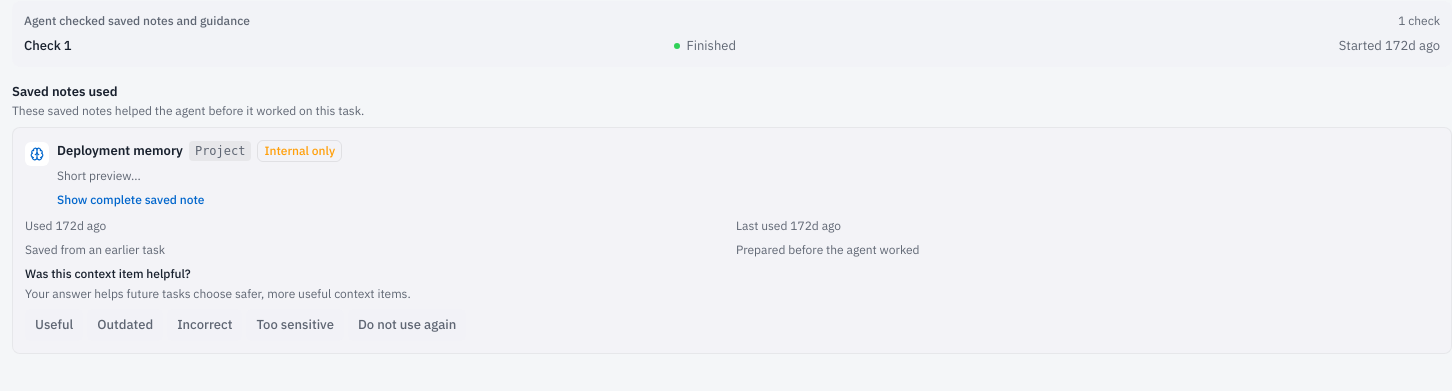
ContextTab › shows a beginner-safe message when complete saved note content fails to load
Expected: the text "Short preview..." is shown, [57,168,141,183]
Click the button "Show complete saved note" at (131, 200), box [57,192,204,208]
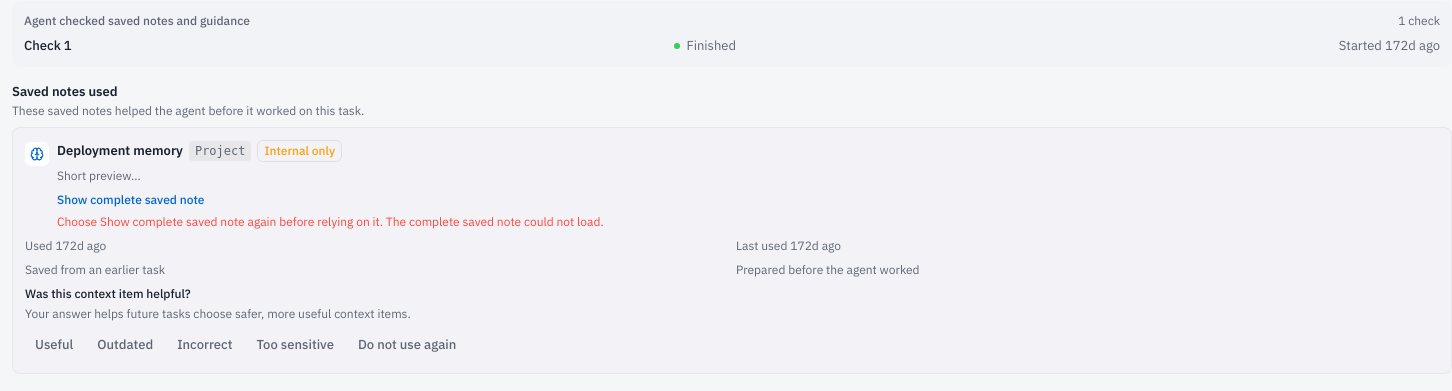
Now the message shows "Choose Show complete saved note again before relying on it. The complete saved note could not load.", box [57,214,604,228]
